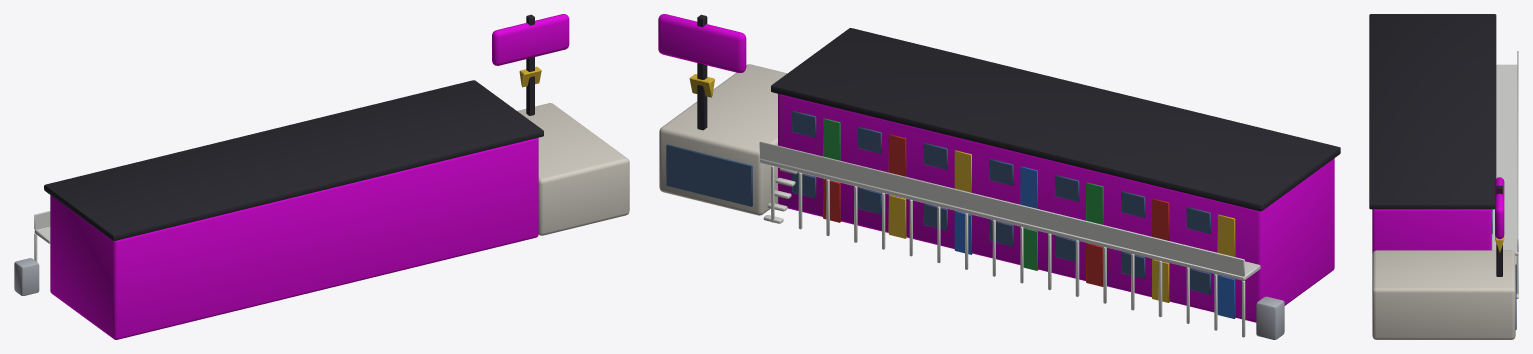
The model's file is Poi_Motel.fbx.
3 renders of one model, left to right at view 1: azimuth 30°, elevation 25°; view 2: azimuth 150°, elevation 25°; view 3: azimuth 270°, elevation 25°, orthographic. The views are drawn at different scales.
Visible parts, largest first — view 1: Poi_Motel; view 2: Poi_Motel; view 3: Poi_Motel.
Part boxes in pixels (<box>): Poi_Motel: <box>14,14,629,339</box>; Poi_Motel: <box>658,14,1340,339</box>; Poi_Motel: <box>1369,14,1518,339</box>.
Size of the model in its own units: 36.1 by 9.8 by 9.4.
